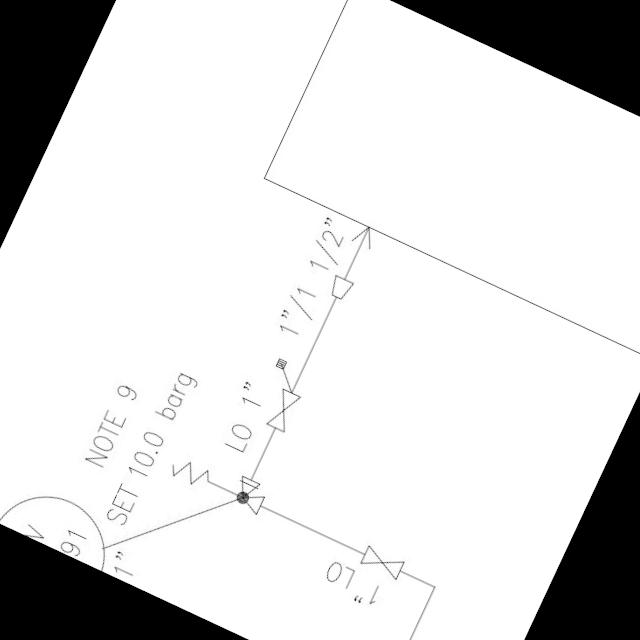GV: (258, 381, 306, 439), (354, 540, 412, 584)
RPV: (160, 438, 276, 524)
SP: (321, 266, 359, 309)
